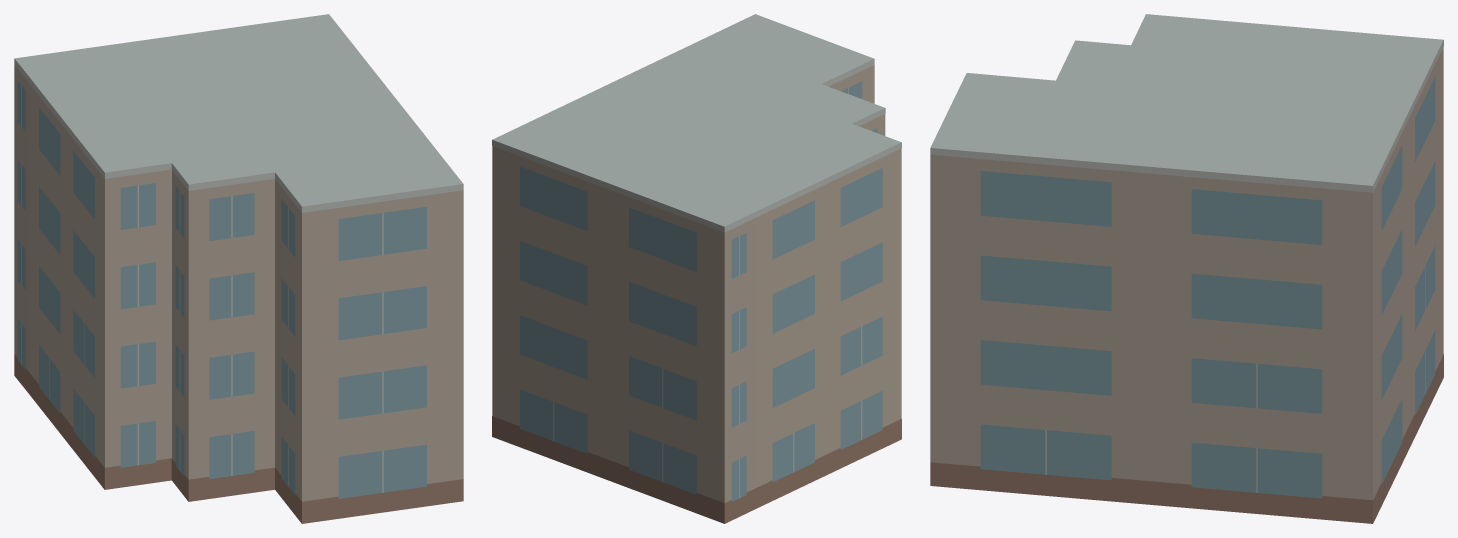
Rendered from residential-f57954a8-34d0-4ed1-bf11-41738ba973d5.glb.
3 renders of one model, left to right at view 1: azimuth 30°, elevation 25°; view 2: azimuth 150°, elevation 25°; view 3: azimuth 270°, elevation 25°, orthographic. The views are drawn at different scales.
Parts seen in each view (by area): view 1: residential-f57954a8-34d0-4ed1-bf11-41738ba973d5.tmp; view 2: residential-f57954a8-34d0-4ed1-bf11-41738ba973d5.tmp; view 3: residential-f57954a8-34d0-4ed1-bf11-41738ba973d5.tmp.
Part boxes in pixels (<box>): residential-f57954a8-34d0-4ed1-bf11-41738ba973d5.tmp: <box>14,14,463,523</box>; residential-f57954a8-34d0-4ed1-bf11-41738ba973d5.tmp: <box>492,14,901,523</box>; residential-f57954a8-34d0-4ed1-bf11-41738ba973d5.tmp: <box>930,14,1443,523</box>.
Size of the model in its own units: 13.32 by 12.2 by 16.81.
